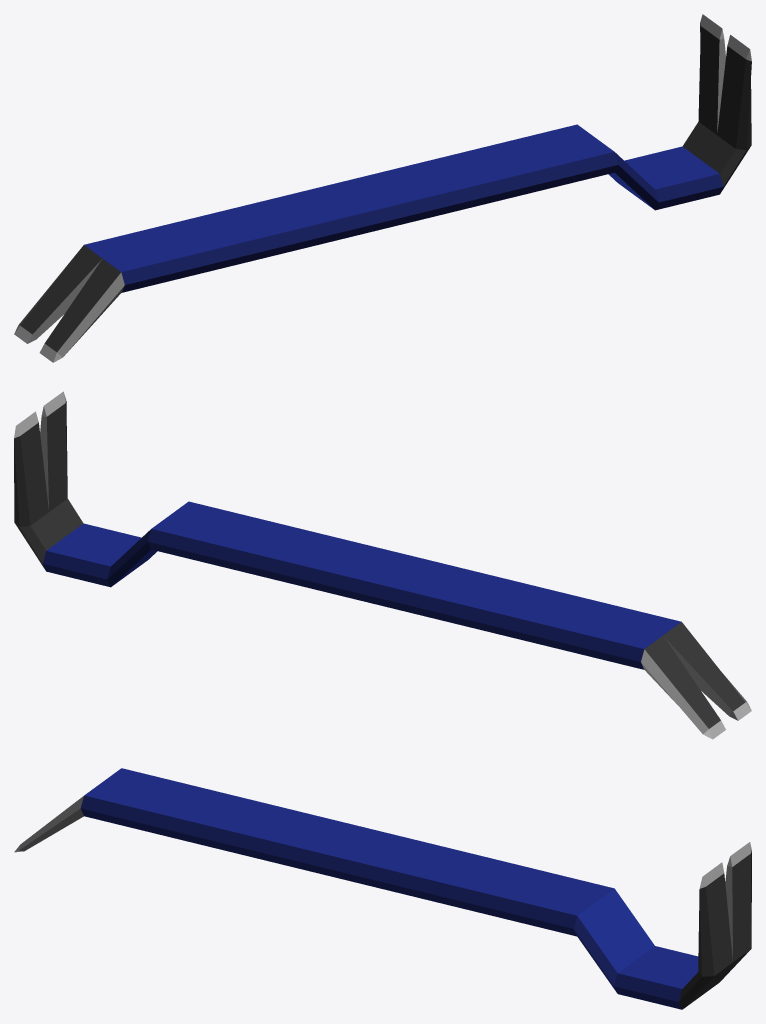
Rendered from WorldItem_UtilityBar.fbx.
3 views of the same model, one above another, from view 1: azimuth 30°, elevation 25°; view 2: azimuth 150°, elevation 25°; view 3: azimuth 330°, elevation 25° (orthographic).
Parts seen in each view (by area): view 1: ZomboidUtilityBar; view 2: ZomboidUtilityBar; view 3: ZomboidUtilityBar.
Boxes of the visible parts, x1,y1,x2,y2 form: ZomboidUtilityBar: (14, 14, 751, 362); ZomboidUtilityBar: (14, 391, 751, 739); ZomboidUtilityBar: (14, 768, 751, 1009).
Bounding box in the file's own units: 0.2534 × 0.0513 × 0.0328.
